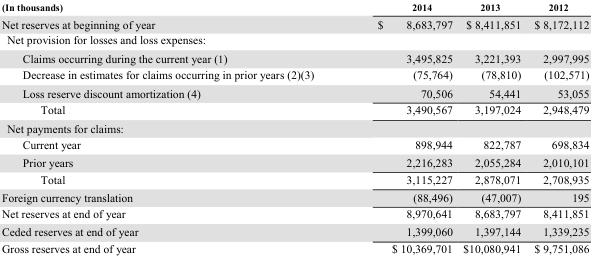table: (0, 1, 588, 254)
table column: (0, 1, 345, 254), (345, 1, 457, 254), (457, 1, 526, 254), (526, 1, 588, 254)
table column header: (0, 1, 588, 14)
table projected row header: (0, 31, 588, 48), (0, 118, 588, 135)
table row: (0, 48, 588, 66), (0, 83, 588, 101), (0, 152, 588, 170), (0, 170, 588, 188), (0, 14, 588, 31), (0, 31, 588, 48), (0, 66, 588, 83), (0, 101, 588, 118), (0, 118, 588, 135), (0, 135, 588, 152), (0, 188, 588, 205), (0, 205, 588, 222), (0, 222, 588, 239), (0, 239, 588, 254), (0, 1, 588, 14)
